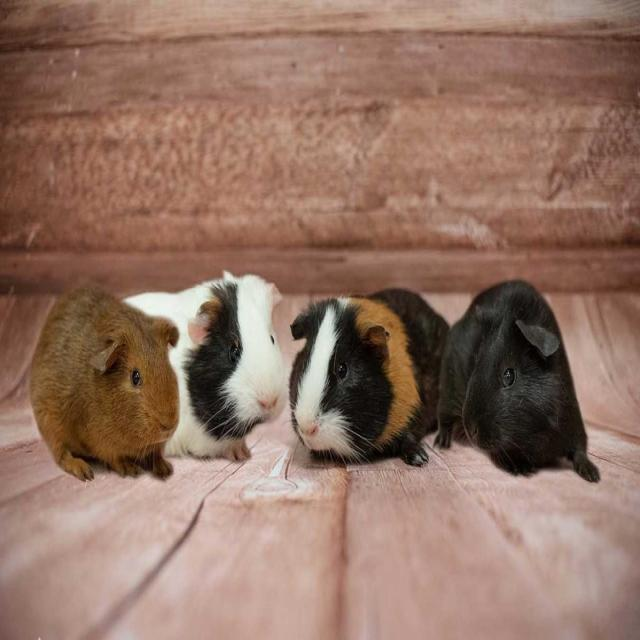guinea pig: (436, 282, 602, 482), (124, 274, 288, 463), (289, 288, 455, 464), (28, 290, 179, 482)
